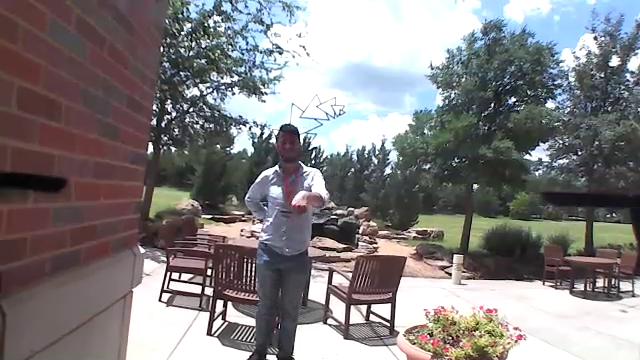down: (288, 187, 312, 231)
